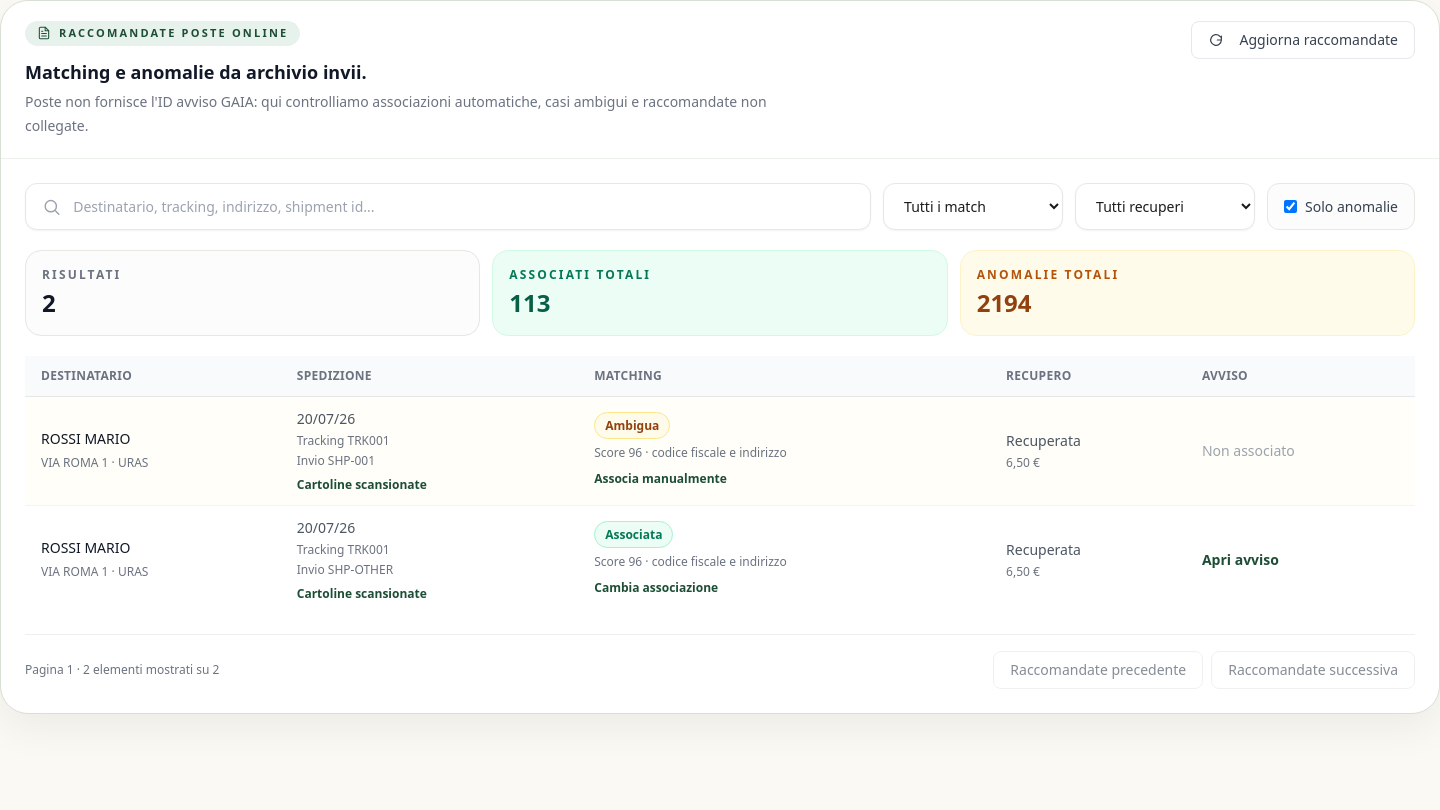
RegisteredMailsConsole › opens matching modal, associates a candidate and updates the row
Step 1. Click the button "Associa manualmente" → x=660, y=479, box [594,471,727,487]
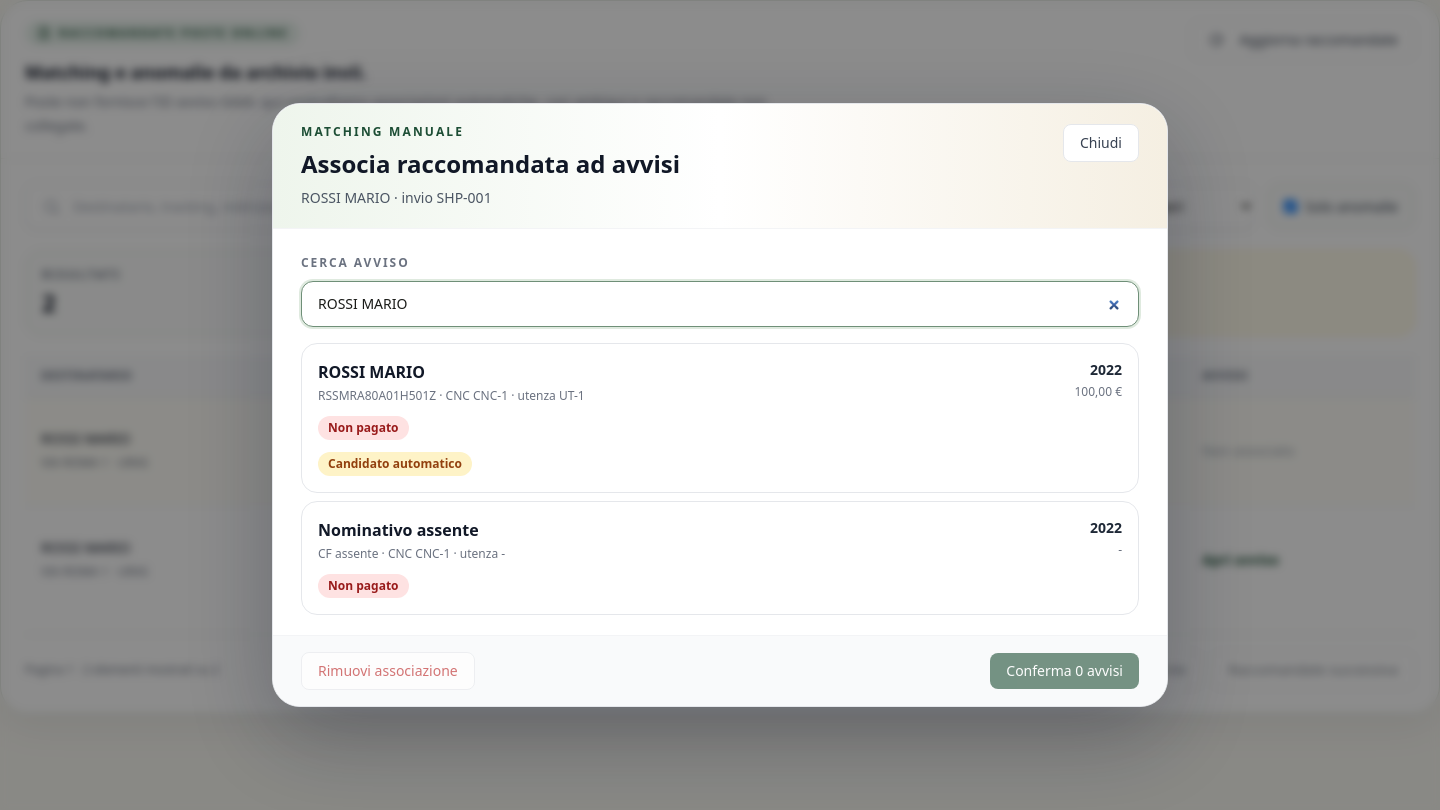
Expected: the dialog is shown, [272,103,1168,707]
Expected: the text "Candidato automatico" is shown, [318,452,472,476]
Expected: the text "Non pagato" is shown 2 times, [318,416,408,440]; [318,574,408,598]
Step 2. Click the checkbox labelled "ROSSI MARIO" → x=371, y=372, box [301,343,1139,493]
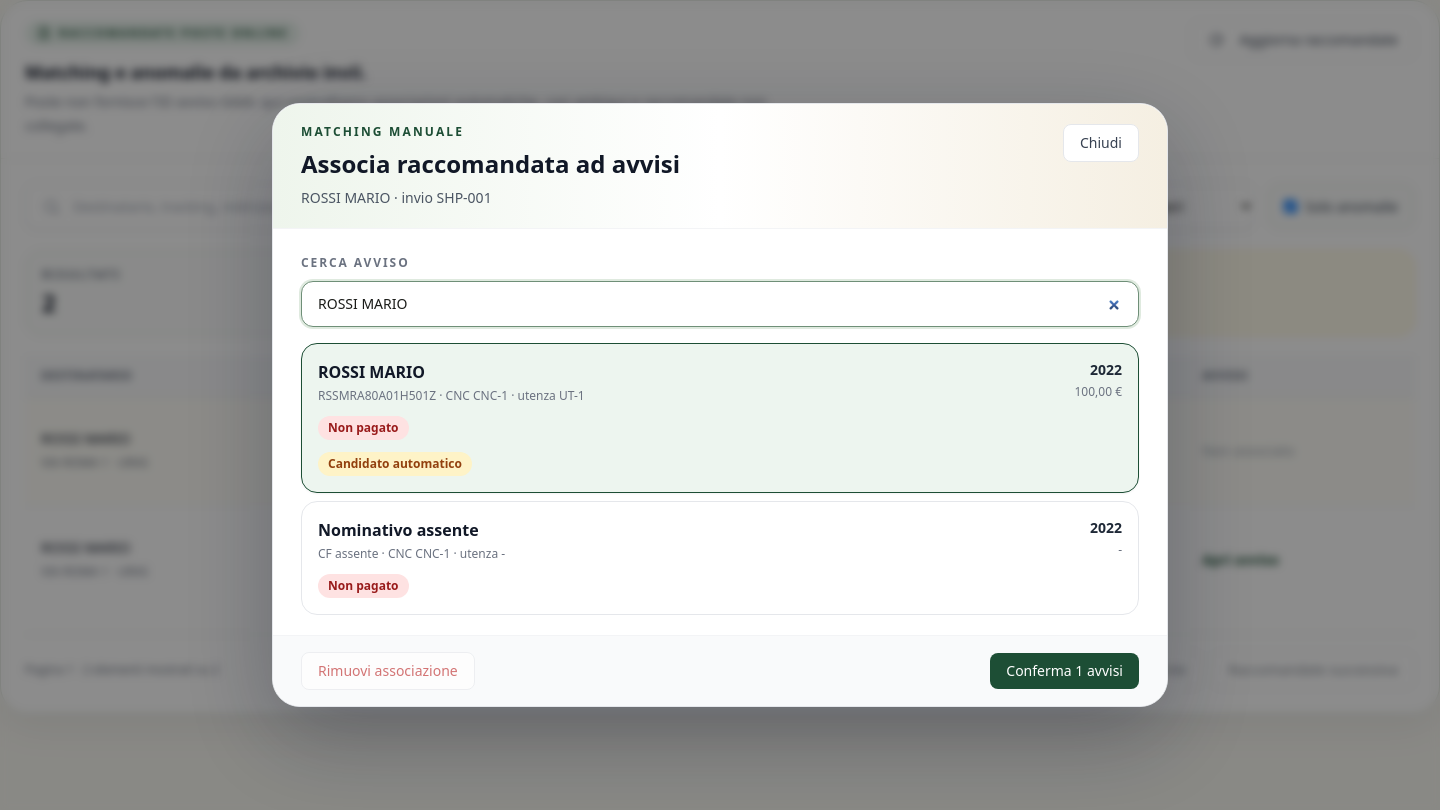
Step 3. Click the button "Conferma 1 avvisi" → x=1065, y=671, box [990,653,1139,689]
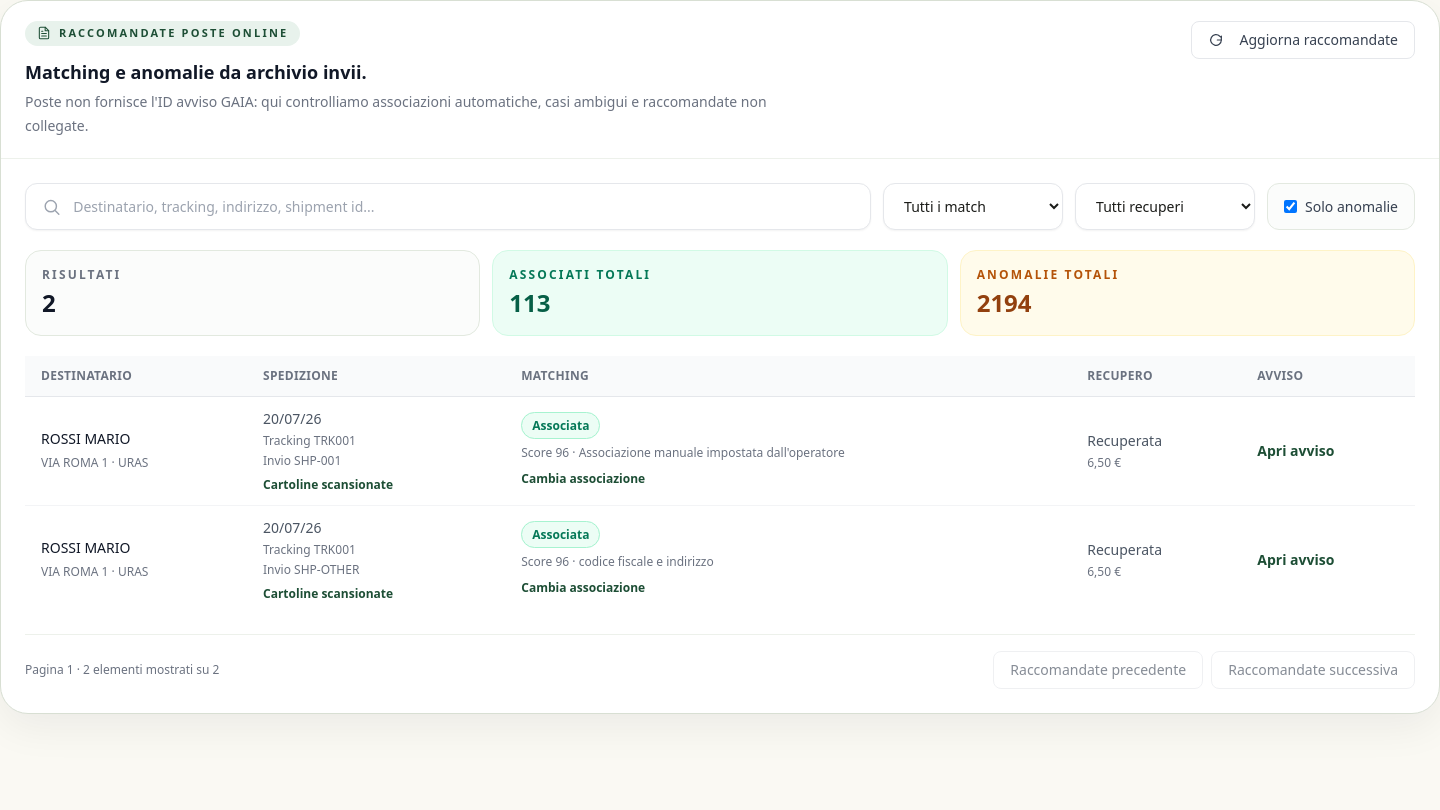
Expected: the number of buttons "Cambia associazione" is 2, [521,471,645,487]; [521,580,645,596]
Expected: the dialog is gone
Expected: the text "Score 96 · Associazione manuale impostata dall'operatore" is shown, [521,444,845,461]
